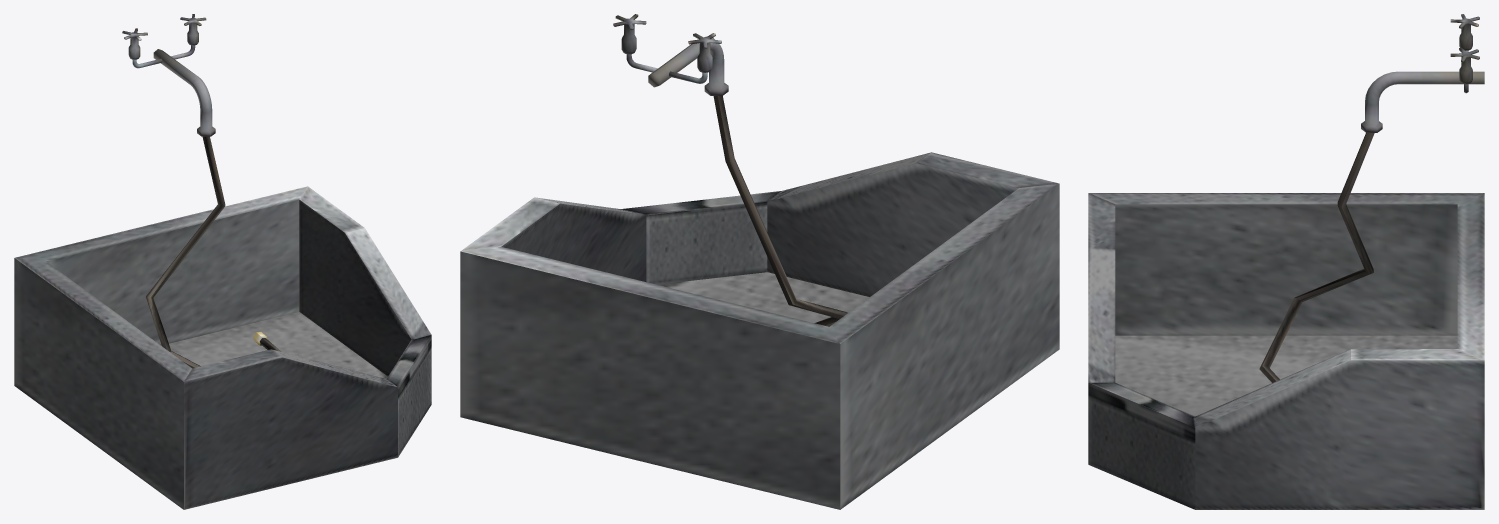
File: janitor_sink.FBX
3 renders of one model, left to right at view 1: azimuth 30°, elevation 25°; view 2: azimuth 150°, elevation 25°; view 3: azimuth 270°, elevation 25°, orthographic. The views are drawn at different scales.
Parts seen in each view (by area): view 1: janitor_sink; view 2: janitor_sink; view 3: janitor_sink.
Boxes of the visible parts, x1,y1,x2,y2 form: janitor_sink: [14, 14, 431, 509]; janitor_sink: [460, 14, 1059, 509]; janitor_sink: [1088, 14, 1484, 509].
Bounding box in the file's own units: 70 × 75.32 × 70.
